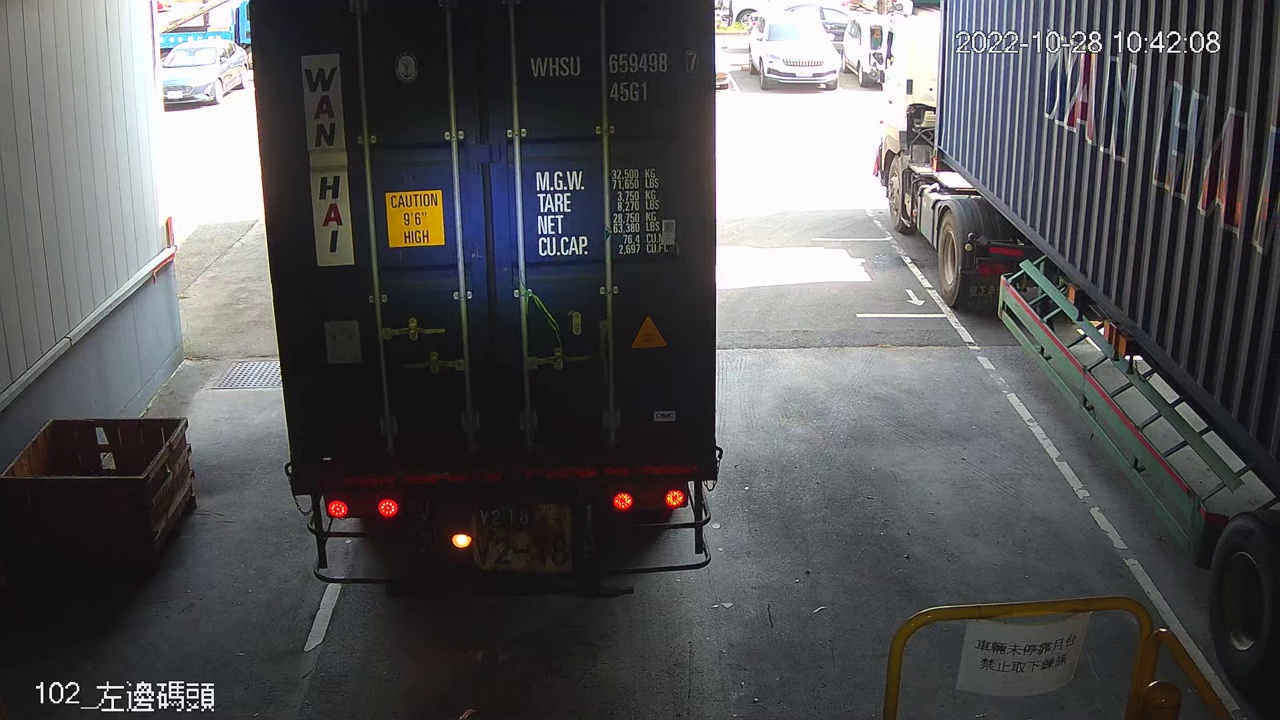container: (522, 45, 708, 107)
